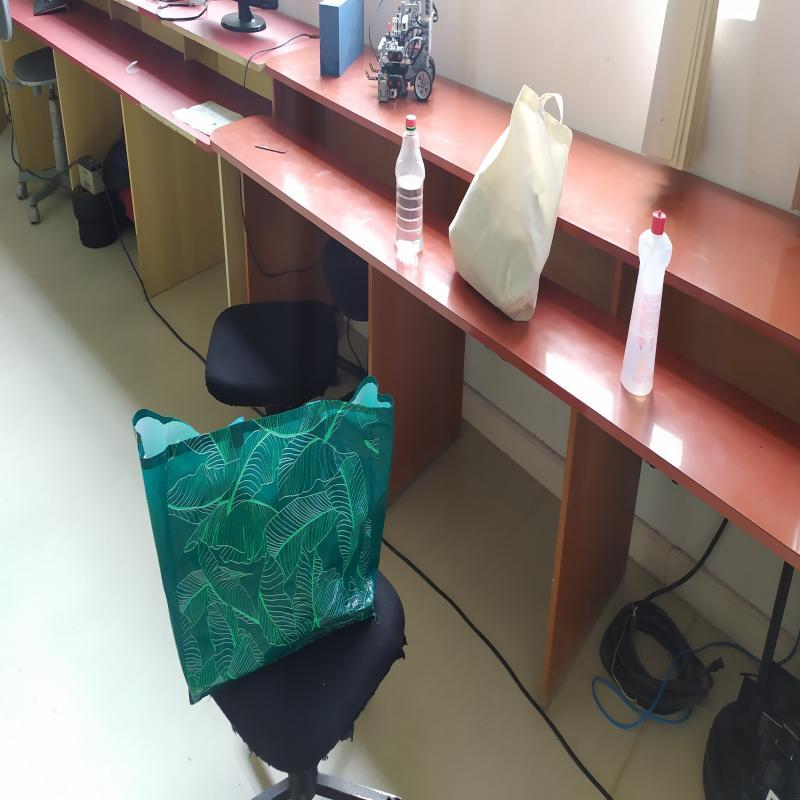Bag: (130, 364, 400, 706), (448, 80, 574, 332)
